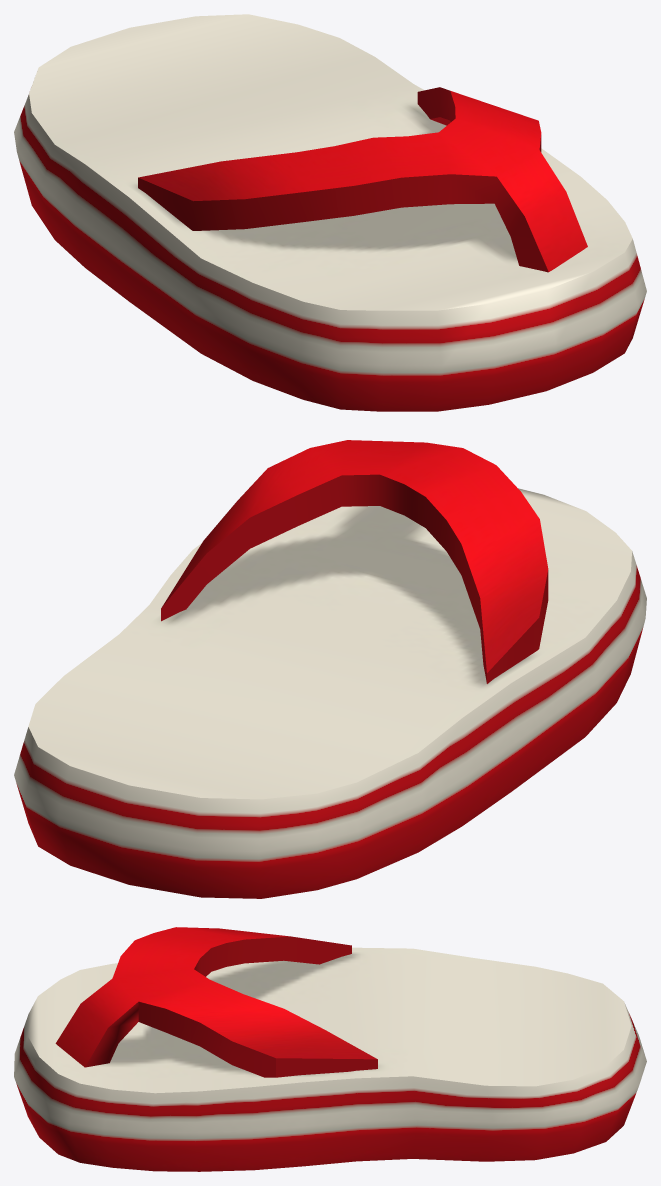
The model's file is castObj_slipper02.fbx.
3 views of the same model, one above another, from view 1: azimuth 30°, elevation 25°; view 2: azimuth 150°, elevation 25°; view 3: azimuth 270°, elevation 25° (orthographic). The views are drawn at different scales.
Visible parts, largest first — view 1: castObj_slipper02; view 2: castObj_slipper02; view 3: castObj_slipper02.
Boxes of the visible parts, box(x1,y1,x2,y2) form: castObj_slipper02: box(14, 14, 646, 411); castObj_slipper02: box(14, 440, 646, 898); castObj_slipper02: box(14, 927, 646, 1171).
Size of the model in its own units: 0.2369 by 0.1089 by 0.4278.
Materials: 1 (1 with a texture image).
